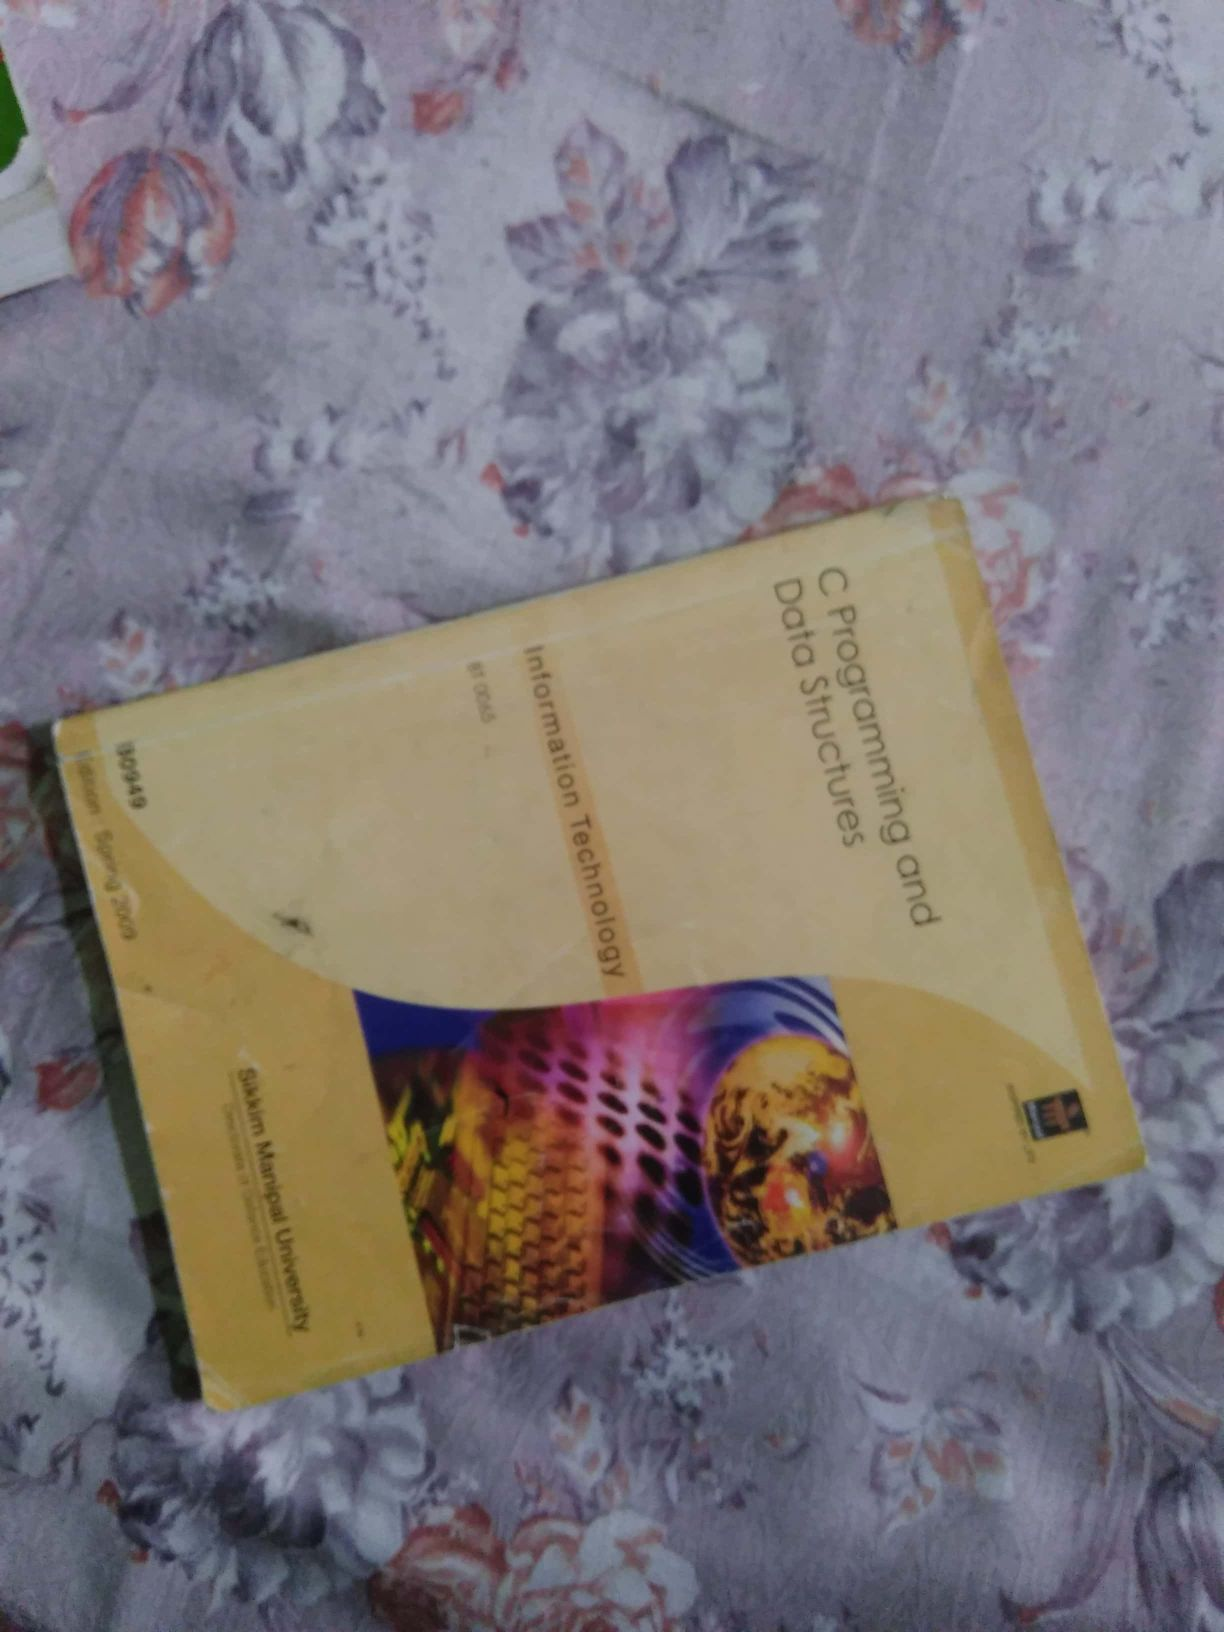clang: (41, 493, 1142, 1410)
